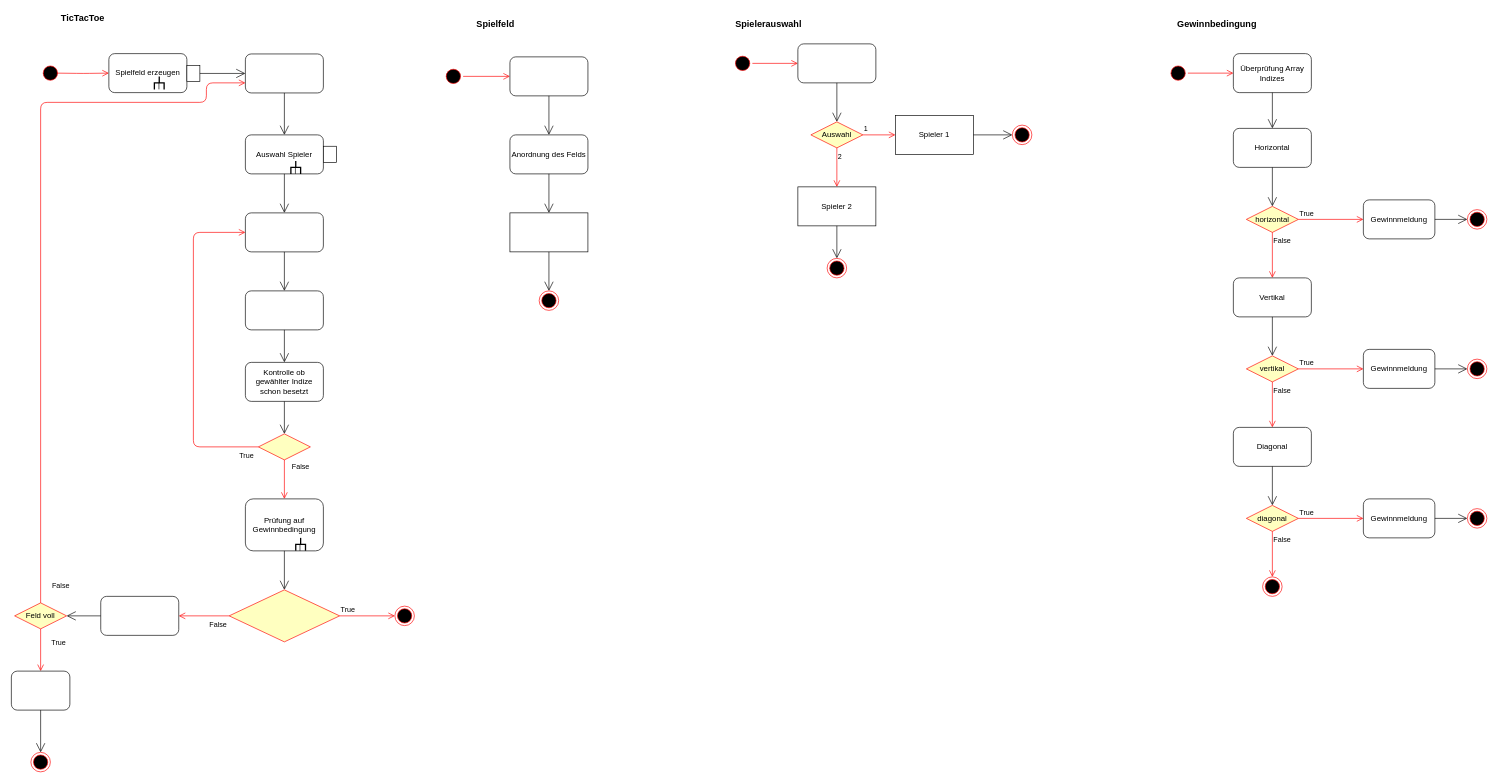
This 1498x783 diagram has some shape labels left out. Here are the shapes that lost their labels. From the top down, the centre of each, then its label:
At [284,73]: "Ausgabe Spielfeld".
At [548,76]: "Array oder Matirx mit 9 Indizes erstellen".
At [836,63]: "Konsoleneingabe 1 || 2".
At [284,232]: "Zugaufforderung des entsprechenden Spielers".
At [548,232]: "Fertiges leeres Spielfeld".
At [284,310]: "Tätigung Spielzug".
At [284,446]: "Indize besetzt".
At [139,615]: "Überprüfung Spielfeld voll".
At [284,615]: "Eine Gewinnbedingung".
At [40,690]: "Ausgabe unentschieden".
